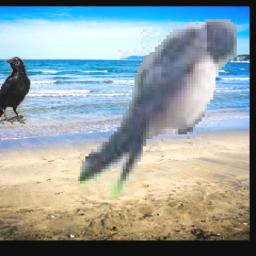Crow: (0, 57, 30, 124)
Swallow: (77, 20, 236, 198)
